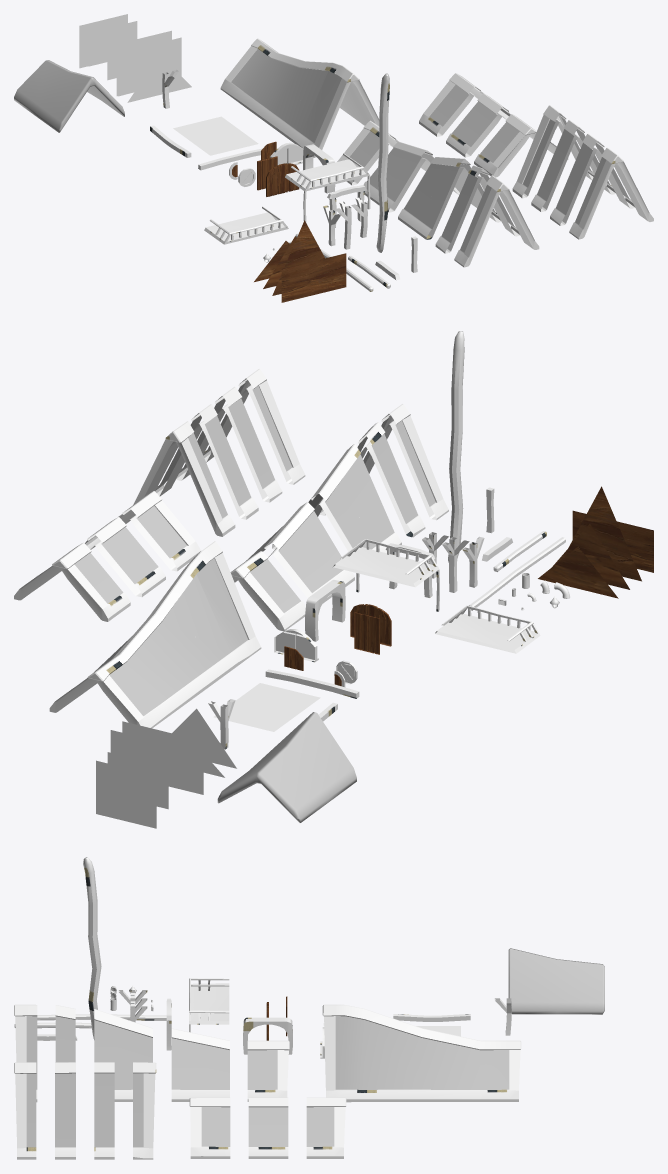
Rendered from Building_blocks_huis.fbx.
3 views of the same model, one above another, from view 1: azimuth 30°, elevation 25°; view 2: azimuth 150°, elevation 25°; view 3: azimuth 270°, elevation 25° (orthographic). The views are drawn at different scales.
Parts seen in each view (by area): view 1: Dak_Groot, Dak_Klein_Huisje, Dak_Groot_1C, Muur, Dak_Groot_1A1, Dak_Groot_1D, Dak_Groot_2A, Dak_Groot_2B, Dak_Groot_3C, Dak_Groot_3A, Dak_Groot_2D, Dak_Groot_1B1 (+18 smaller); view 2: Dak_Groot, Dak_Klein_Huisje, Dak_Groot_1C, Dak_Groot_1D, Dak_Groot_3C, Dak_Groot_2D, Muur_4_klein_huis, Dak_Groot_3A, Balkon_1, Dak_Groot_2C, Dak_Groot_1E, Dak_Groot_3B (+21 smaller); view 3: Dak_Groot, Dak_Klein_Huisje, Dak_Groot_1D, Dak_Groot_1C, Dak_Groot_3A, Dak_Groot_3B, Dak_Groot_3C, Dak_Groot_1E, Dak_Groot_2D, Dak_Groot_2A, Dak_Groot_2B, Dak_Groot_2C (+7 smaller).
Boxes of the visible parts, x1,y1,x2,y2 form: Dak_Groot: (220,38,379,157); Dak_Klein_Huisje: (14,60,124,132); Dak_Groot_1C: (398,157,501,239); Muur: (281,253,346,302); Dak_Groot_1A1: (454,175,539,267); Dak_Groot_1D: (363,141,459,212); Dak_Groot_2A: (569,147,653,239); Dak_Groot_2B: (550,133,635,225); Dak_Groot_3C: (419,73,510,136); Dak_Groot_3A: (474,114,568,177); Dak_Groot_2D: (512,105,594,198); Dak_Groot_1B1: (435,165,520,253); Dak_Groot: (49,541,261,728); Dak_Klein_Huisje: (217,712,356,822); Dak_Groot_1C: (272,444,401,553); Dak_Groot_1D: (246,502,354,603); Dak_Groot_3C: (14,542,130,621); Dak_Groot_2D: (133,421,235,536); Muur_4_klein_huis: (96,760,156,828); Dak_Groot_3A: (85,491,200,571); Balkon_1: (333,539,439,611); Dak_Groot_2C: (155,404,258,519); Dak_Groot_1E: (230,551,305,631); Dak_Groot_3B: (87,517,165,597); Dak_Groot: (322,1004,521,1102); Dak_Klein_Huisje: (508,948,604,1014); Dak_Groot_1D: (171,1028,229,1101); Dak_Groot_1C: (94,1009,152,1101); Dak_Groot_3A: (189,1097,230,1158); Dak_Groot_3B: (248,1097,288,1158); Dak_Groot_3C: (306,1097,346,1158); Dak_Groot_1E: (247,1040,289,1101); Dak_Groot_2D: (133,1062,156,1159); Dak_Groot_2A: (14,1062,36,1159); Dak_Groot_2B: (55,1062,75,1159); Dak_Groot_2C: (94,1062,114,1159).
Bounding box in the file's own units: 2239 × 1122 × 3316.
